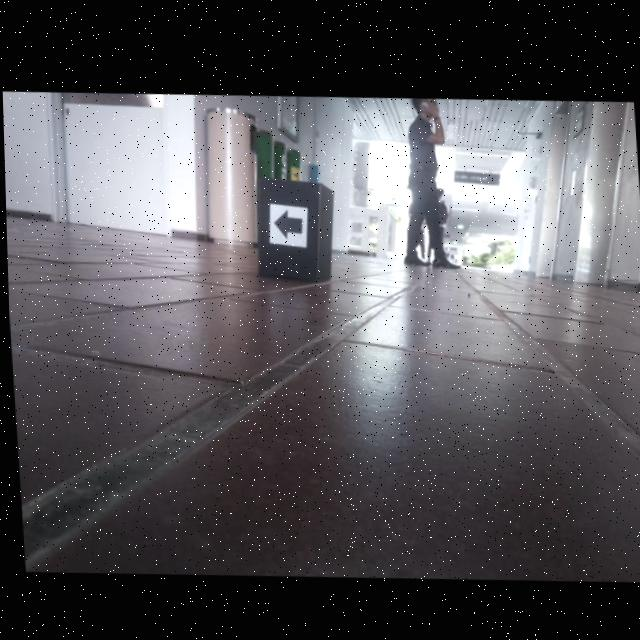LEFT: (272, 206, 302, 238)
